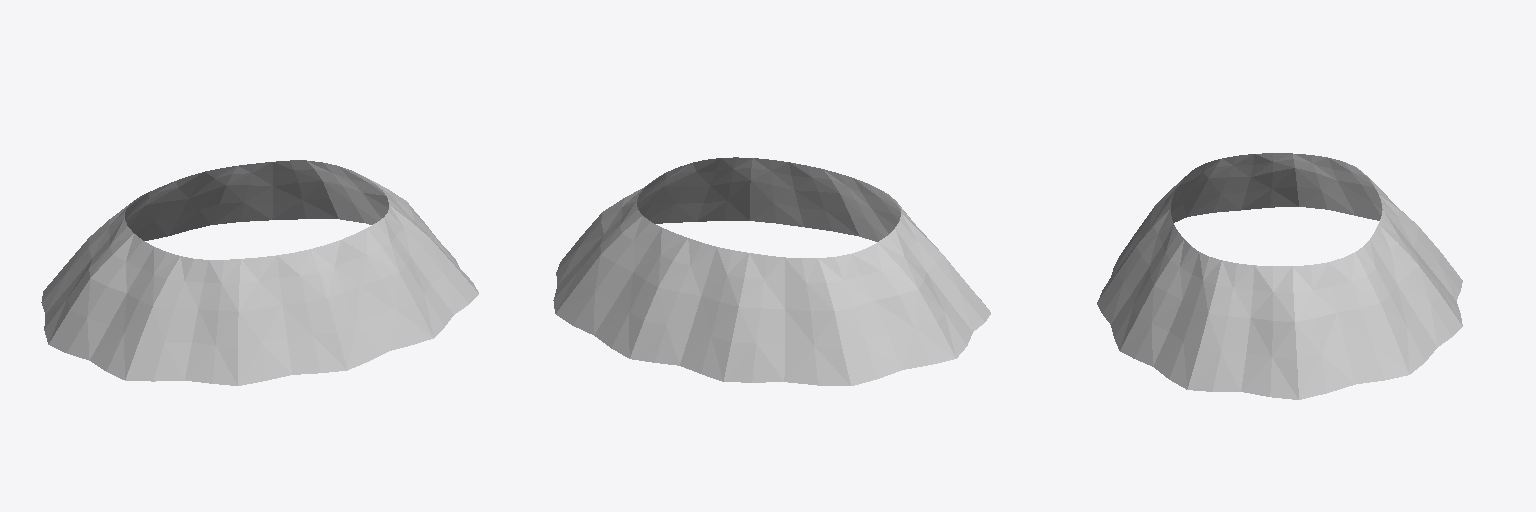
The model's file is 8_peplumfull.obj.
The picture shows the model from 3 angles: view 1: azimuth 30°, elevation 25°; view 2: azimuth 150°, elevation 25°; view 3: azimuth 270°, elevation 25°; orthographic projection.
Visible parts, largest first — view 1: peplumfront, peplumback; view 2: peplumback, peplumfront; view 3: peplumfront, peplumback.
Part boxes in pixels (x1,y1,x2,y2): peplumfront: (48,178,478,385); peplumback: (41,160,388,343); peplumback: (553,187,955,385); peplumfront: (637,157,990,358); peplumfront: (1097,153,1298,399); peplumback: (1293,154,1462,399).
Bounding box in the file's own units: 17.62 × 4.05 × 14.09.